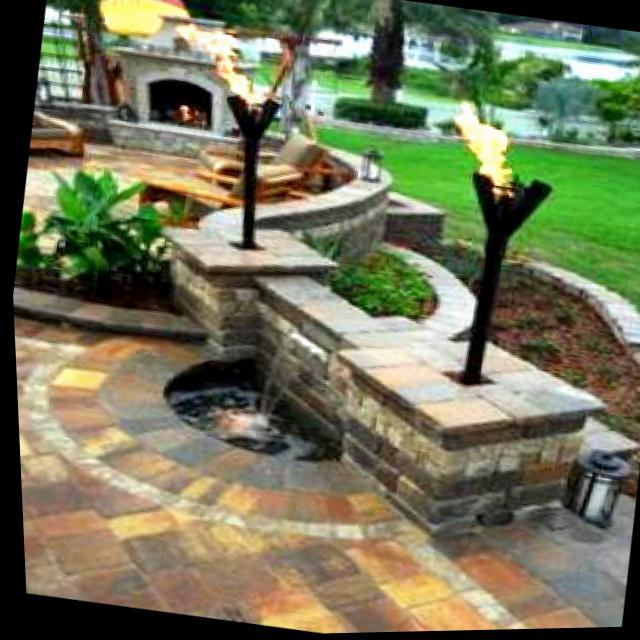helmet: (165, 15, 272, 116), (437, 90, 532, 193)
